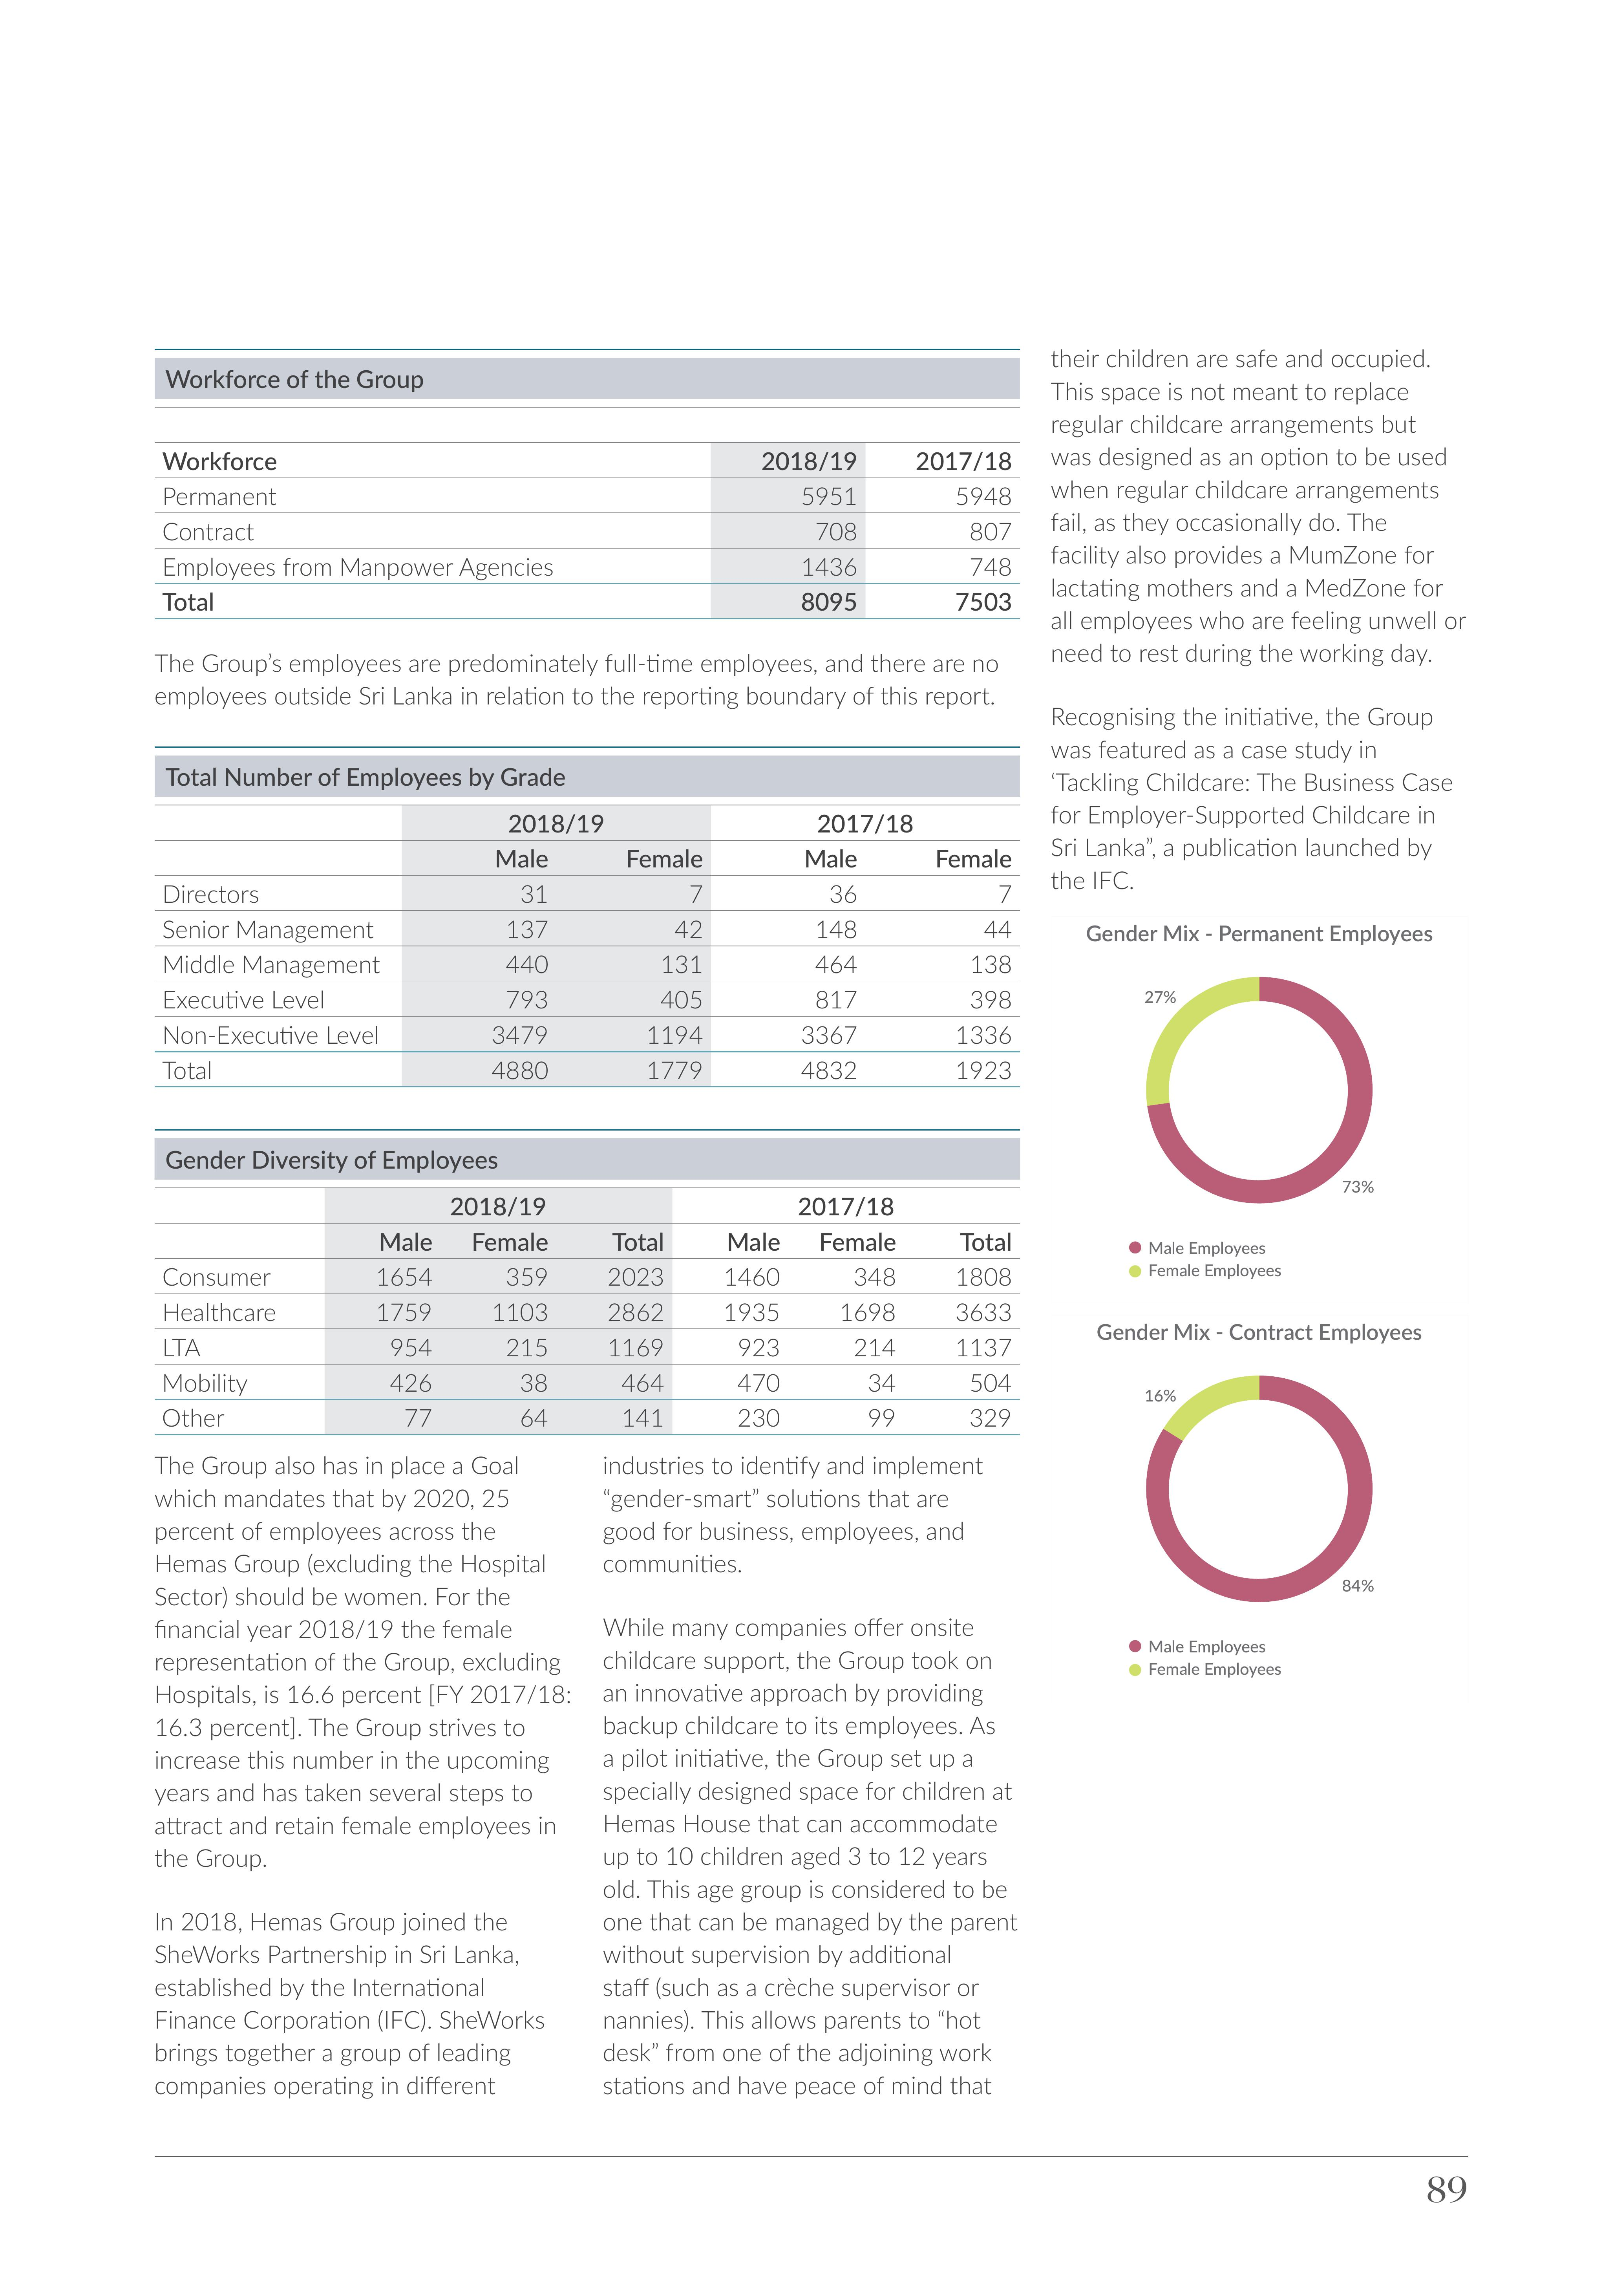table: (146, 731, 1033, 1107), (141, 1119, 1033, 1453), (148, 337, 1031, 638)
